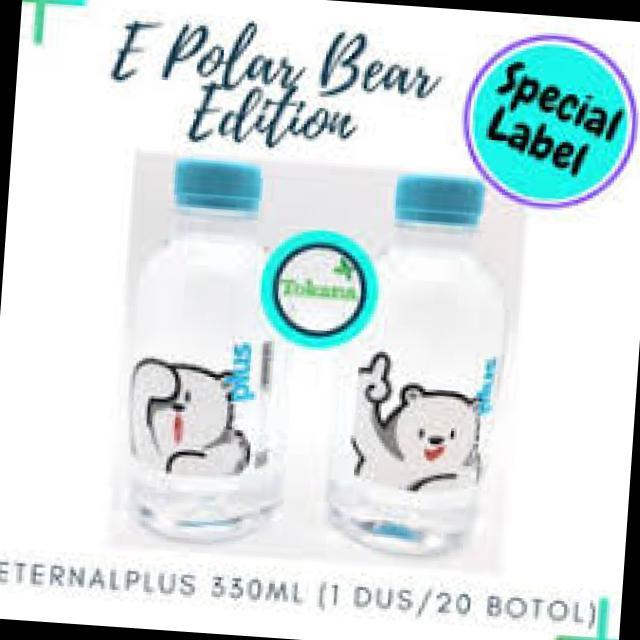good: (100, 135, 330, 556), (309, 153, 516, 572)
